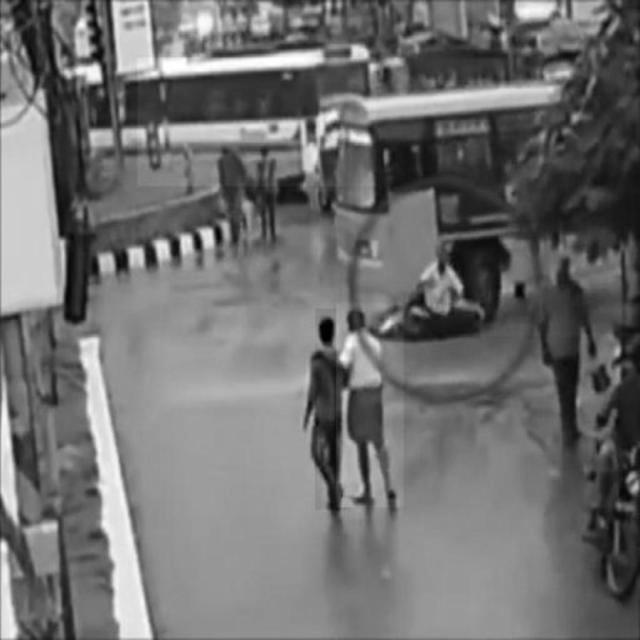accident: (343, 96, 640, 336)
person: (337, 303, 404, 508), (315, 309, 349, 510)
vehicle: (138, 57, 376, 185)
